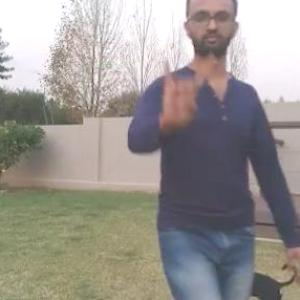takeoff-hand: (154, 48, 220, 132)
